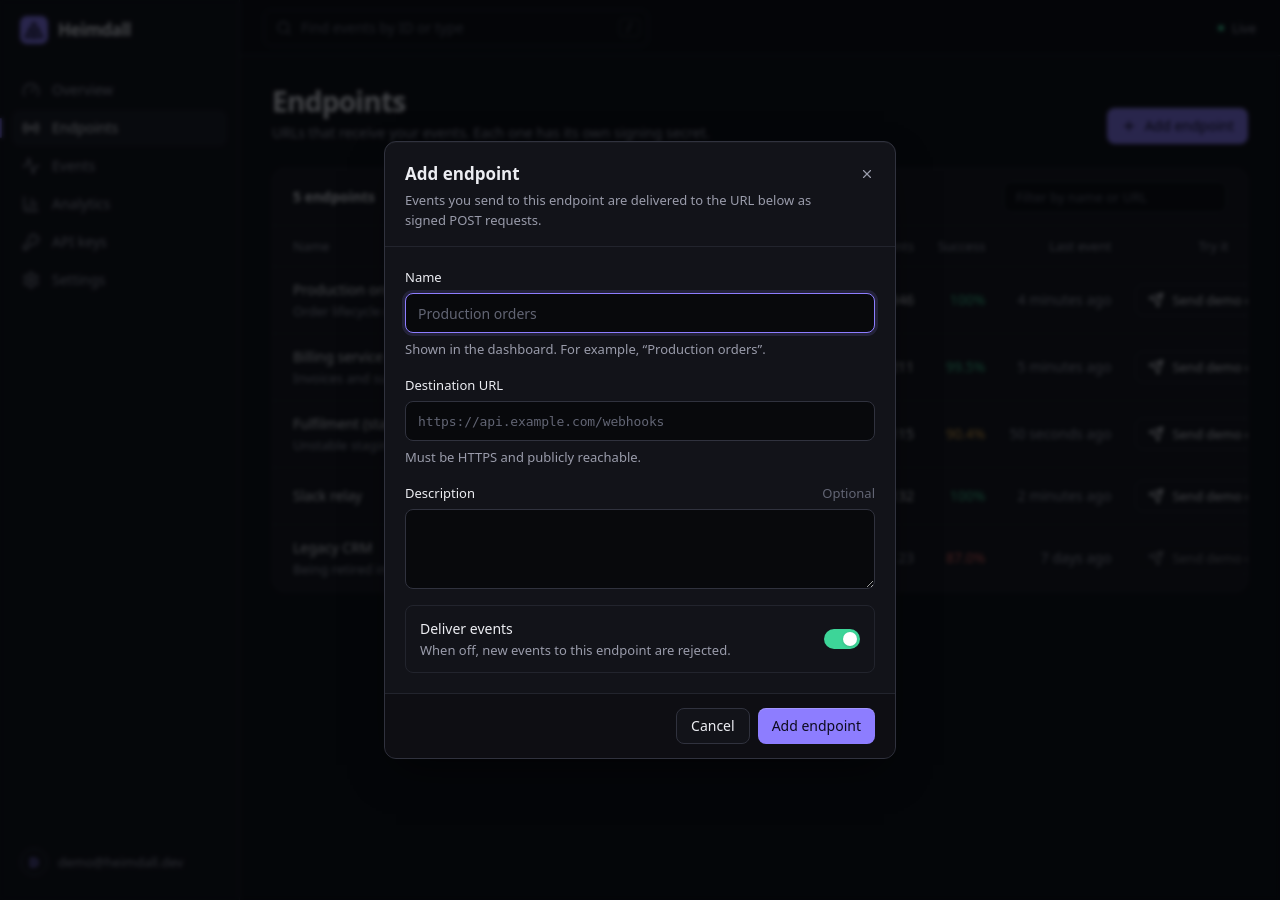
Test: endpoints › shows the API’s error for a private destination
This screenshot has width=1280, height=900.
Type "Local" into the field labelled "Name" at [640, 313], box top-left (405, 293), bottom-right (875, 333)
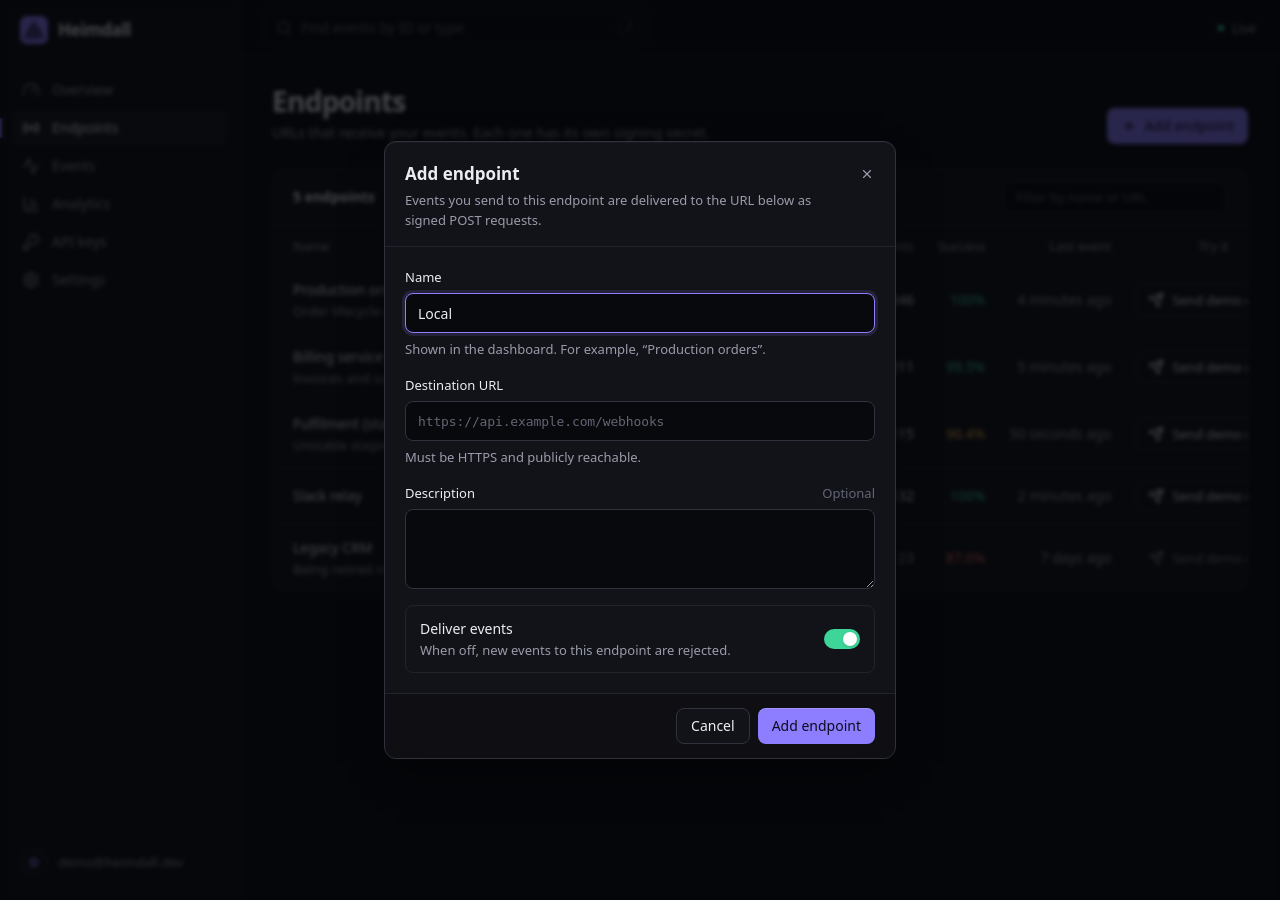
Type "https://localhost:3000/hook" into the field labelled "Destination URL" at [640, 421], box top-left (405, 401), bottom-right (875, 441)
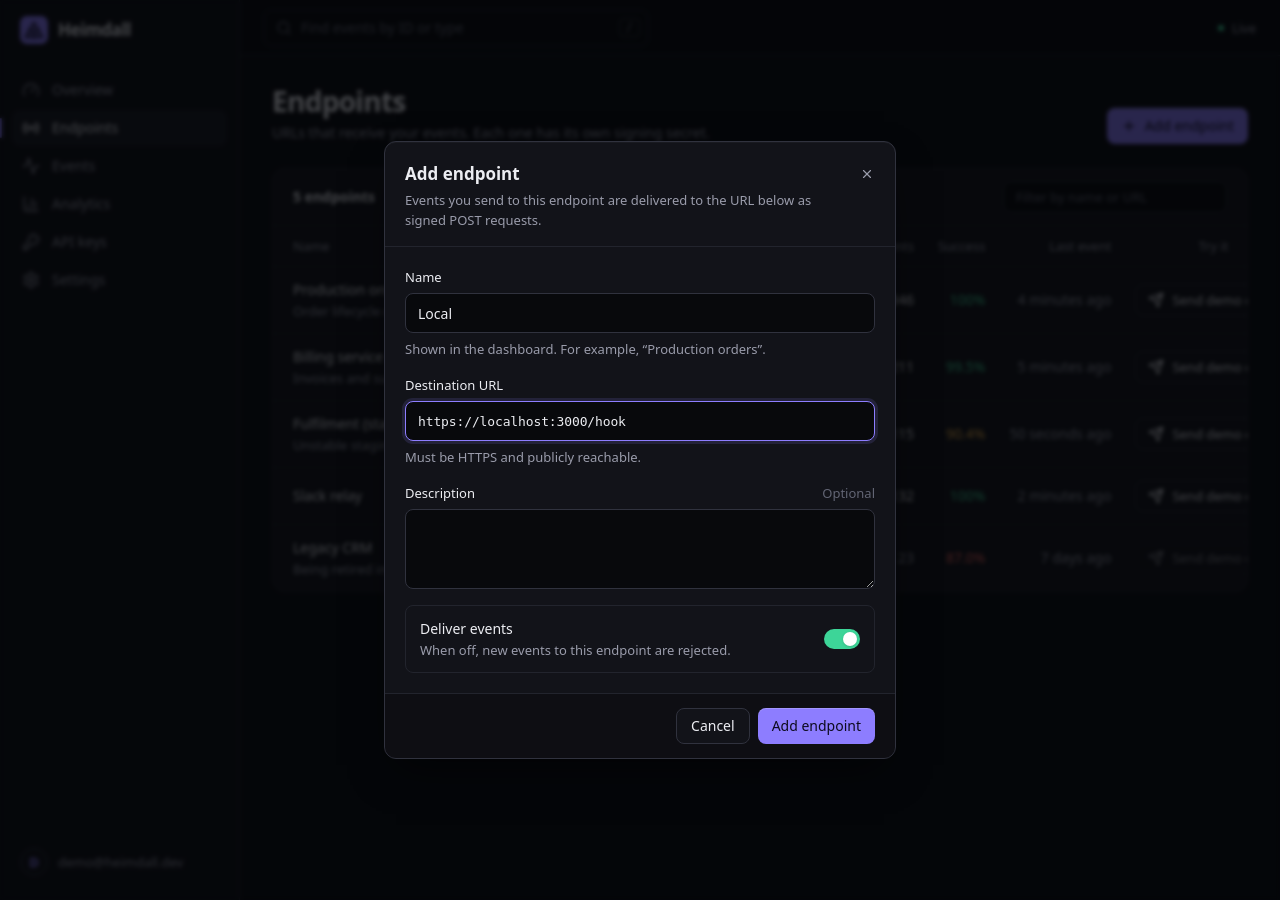
Click the button "Add endpoint" at [816, 726], box top-left (758, 708), bottom-right (875, 744)
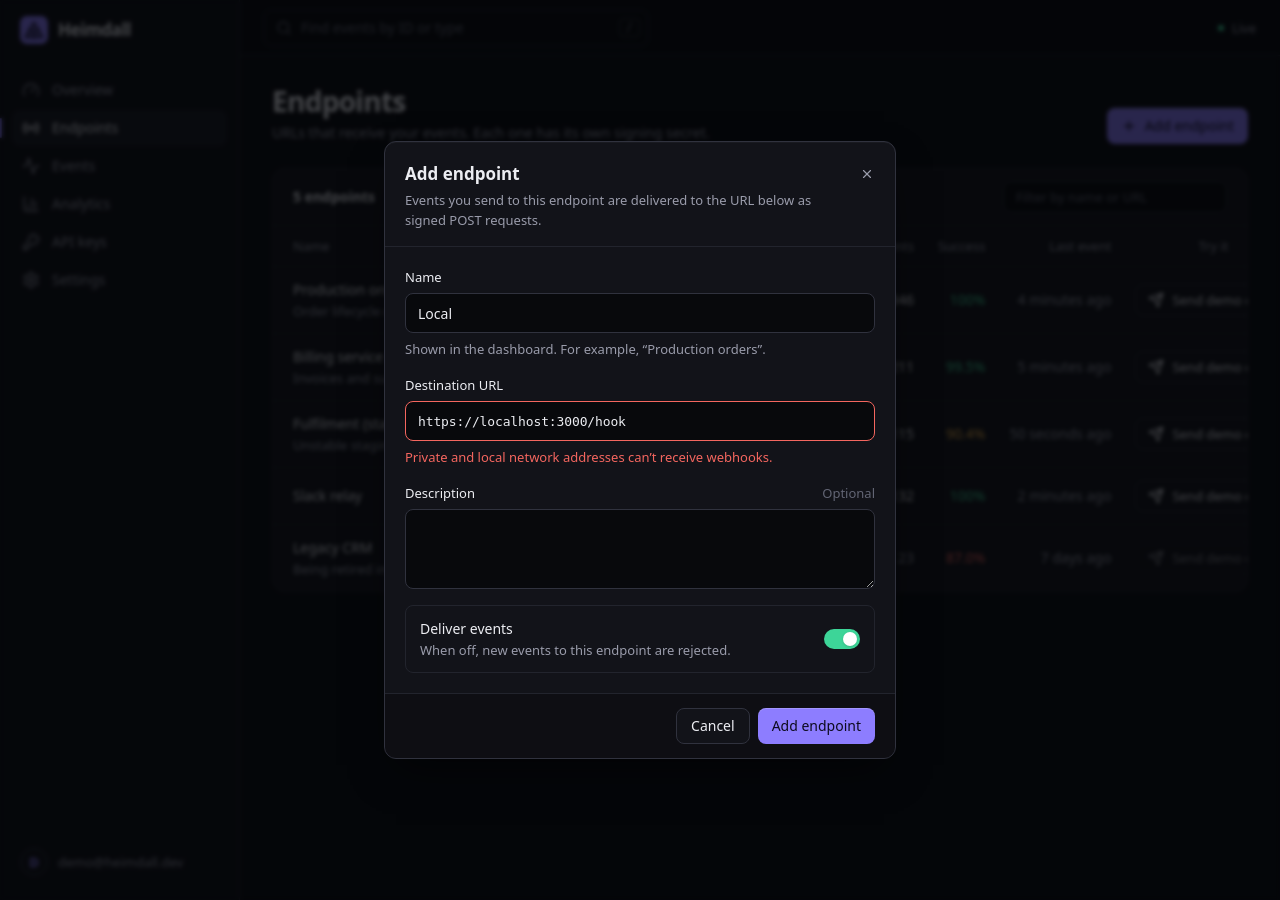
Check: the text "Private and local network addresses can’t receive webhooks." is shown, box top-left (405, 448), bottom-right (772, 466)
